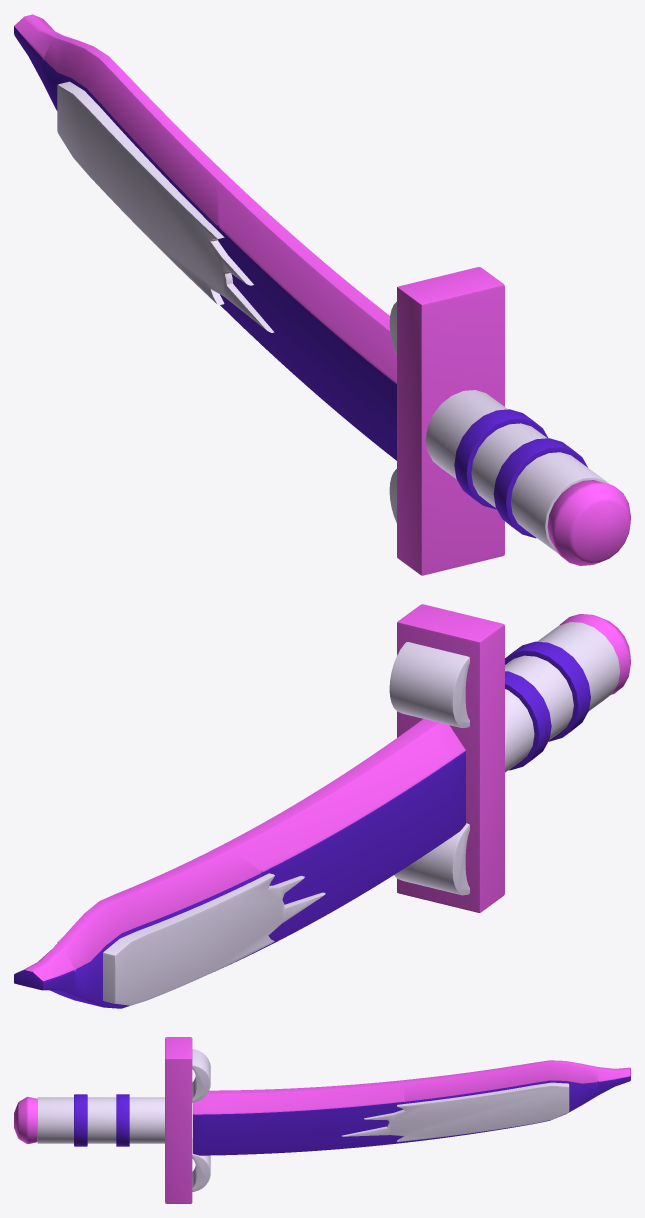
The model's file is Sword_GloamsteelSabre.glb.
3 views of the same model, one above another, from view 1: azimuth 30°, elevation 25°; view 2: azimuth 150°, elevation 25°; view 3: azimuth 270°, elevation 25° (orthographic). The views are drawn at different scales.
Parts seen in each view (by area): view 1: Sword_GloamsteelSabre; view 2: Sword_GloamsteelSabre; view 3: Sword_GloamsteelSabre.
Boxes of the visible parts, x1,y1,x2,y2 form: Sword_GloamsteelSabre: [14, 14, 630, 575]; Sword_GloamsteelSabre: [14, 604, 630, 1008]; Sword_GloamsteelSabre: [14, 1037, 630, 1203].
Bounding box in the file's own units: 0.086 × 0.26 × 1.
1 material, 1 textured.
